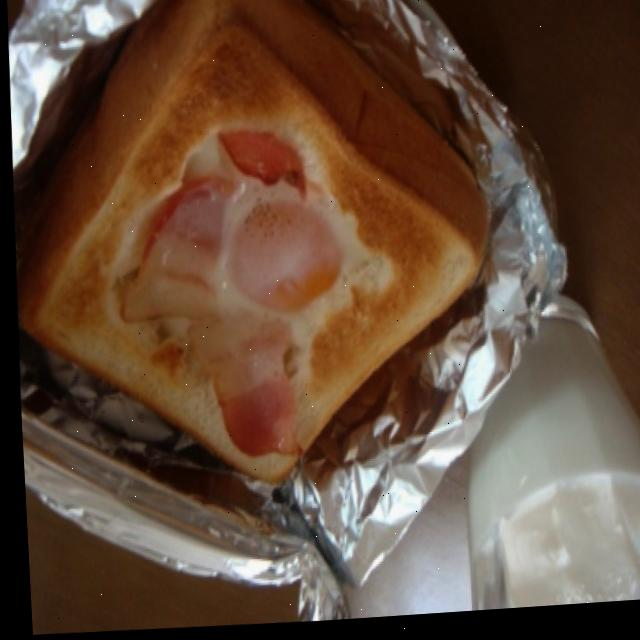面包点心: (13, 0, 518, 500)
